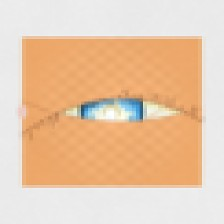corneal_ulcer: (84, 96, 139, 139)
